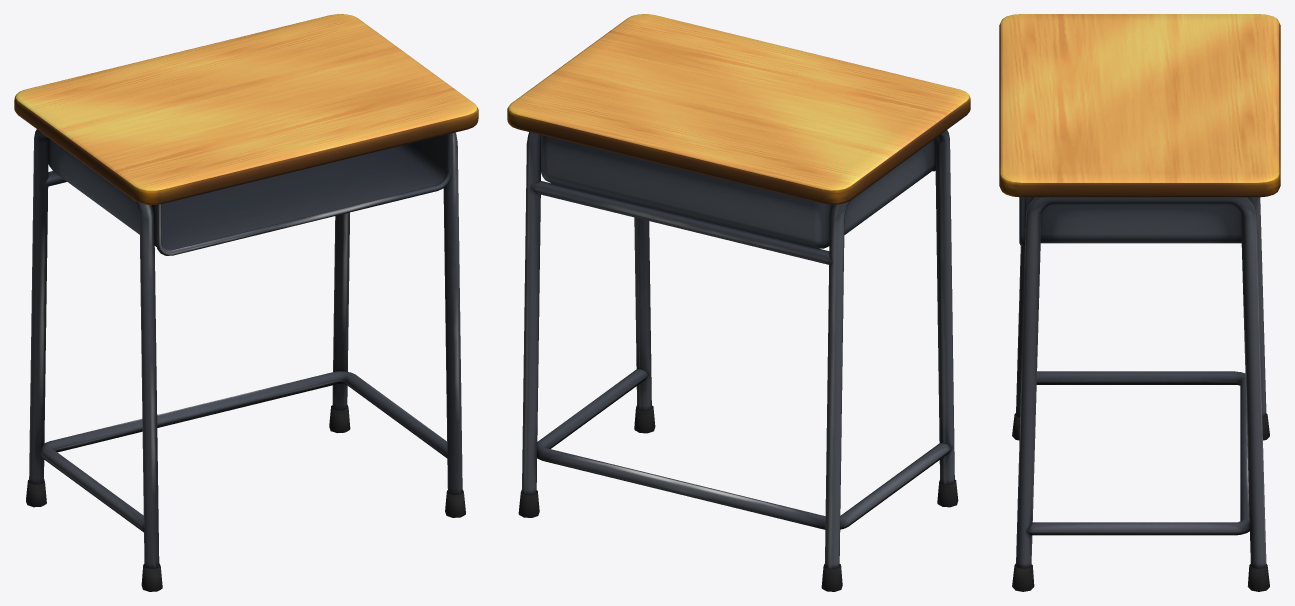
Rendered from Japanese style table.fbx.
3 renders of one model, left to right at view 1: azimuth 30°, elevation 25°; view 2: azimuth 150°, elevation 25°; view 3: azimuth 270°, elevation 25°, orthographic.
Visible parts, largest first — view 1: japanschooldesk; view 2: japanschooldesk; view 3: japanschooldesk.
Boxes of the visible parts, box(x1,y1,x2,y2) form: japanschooldesk: box(14, 14, 478, 591); japanschooldesk: box(507, 14, 970, 591); japanschooldesk: box(999, 14, 1280, 591).
Bounding box in the file's own units: 65 × 74 × 45.49.
Materials: 1 (1 with a texture image).
